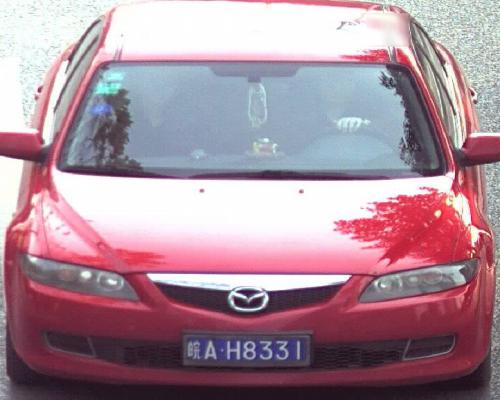Carplate: (179, 329, 316, 372)
